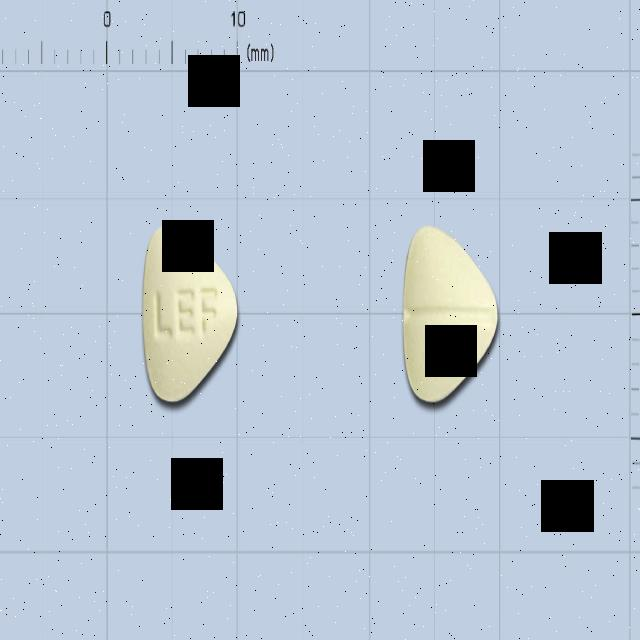Hanlim Leflunomide: (142, 226, 238, 406)
